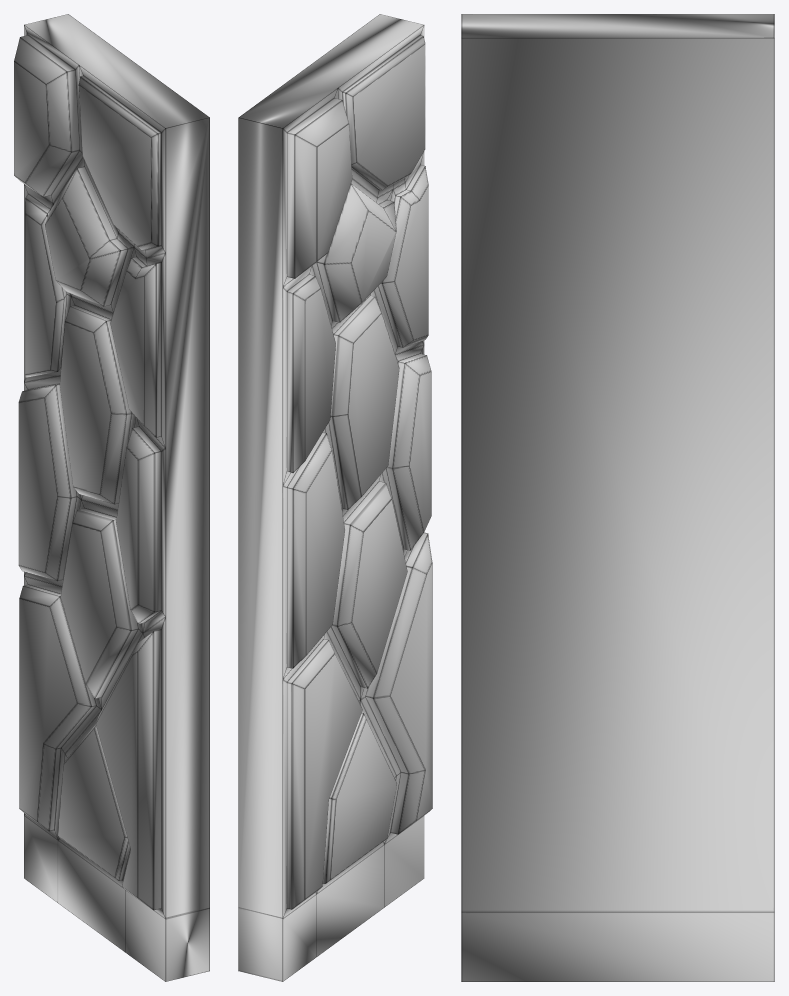
File: wallTile.obj
3 views of the same model, side by side, from view 1: azimuth 30°, elevation 25°; view 2: azimuth 150°, elevation 25°; view 3: azimuth 270°, elevation 25° (orthographic). The views are drawn at different scales.
Parts seen in each view (by area): view 1: Cube; view 2: Cube; view 3: Cube.
Boxes of the visible parts, x1=… form: Cube: x1=14, y1=14, x2=209, y2=981; Cube: x1=238, y1=14, x2=432, y2=981; Cube: x1=461, y1=14, x2=774, y2=981.
Size of the model in its own units: 2.94 by 35.09 by 10.55.
1 material, 1 textured.
